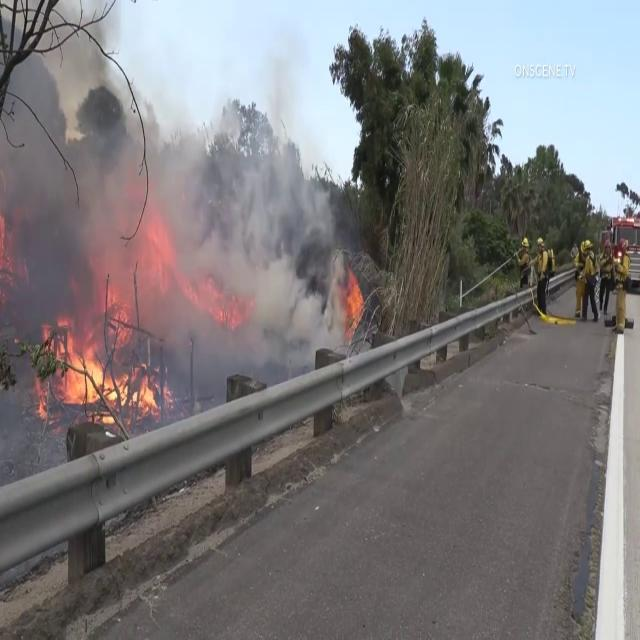Fire: (52, 335, 166, 418), (339, 262, 366, 336)
Smoke: (0, 4, 338, 376)
